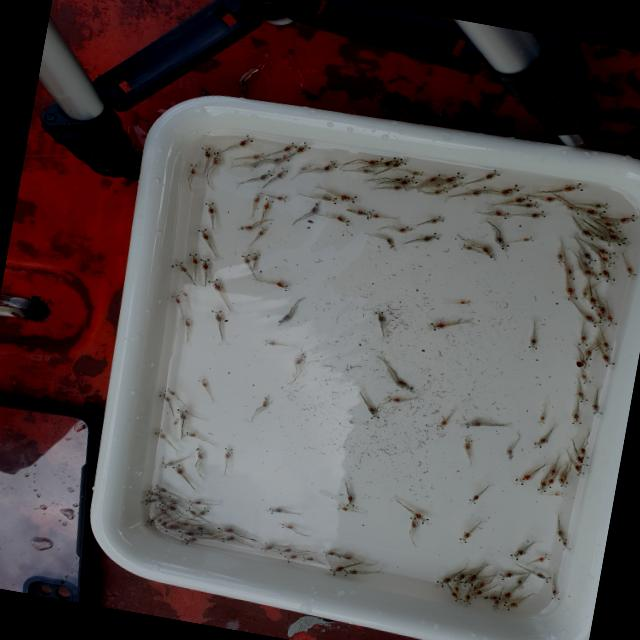babyshrimp: (392, 375, 416, 393), (578, 264, 602, 281), (605, 231, 629, 247), (499, 184, 525, 197), (294, 140, 315, 155), (195, 224, 213, 241), (235, 133, 254, 149), (508, 547, 528, 562), (583, 207, 608, 219), (208, 275, 224, 293), (413, 511, 432, 526), (583, 312, 602, 327), (485, 168, 506, 181), (333, 214, 354, 227), (493, 235, 509, 252), (457, 530, 475, 545), (203, 198, 218, 216), (277, 314, 295, 329), (150, 426, 168, 441), (514, 472, 534, 485), (599, 269, 616, 284), (198, 144, 213, 161), (383, 236, 398, 253), (291, 351, 308, 366), (563, 182, 588, 192), (497, 591, 516, 604), (532, 436, 551, 449), (461, 420, 488, 429), (428, 321, 450, 332), (327, 564, 347, 576), (601, 351, 616, 367), (565, 285, 580, 301), (354, 207, 374, 219), (172, 258, 188, 273), (599, 254, 616, 268), (434, 575, 452, 588), (581, 228, 599, 241), (422, 232, 443, 243), (448, 173, 469, 184), (200, 253, 212, 272), (158, 390, 173, 405), (565, 201, 581, 215), (366, 405, 380, 421), (465, 492, 482, 505), (322, 160, 339, 173), (171, 463, 188, 476), (194, 444, 207, 461), (396, 176, 418, 186), (188, 249, 200, 267), (465, 571, 479, 586), (603, 313, 618, 327), (583, 251, 598, 265), (619, 214, 640, 224), (481, 247, 496, 261), (470, 186, 489, 197), (273, 281, 292, 292), (282, 141, 298, 154), (248, 159, 264, 172), (596, 248, 616, 258), (528, 209, 548, 219), (162, 502, 180, 513), (496, 570, 514, 581), (492, 209, 510, 220), (393, 157, 411, 168), (363, 157, 385, 166), (250, 193, 264, 207), (309, 201, 323, 215), (576, 453, 589, 468), (197, 375, 212, 388), (591, 402, 603, 418), (513, 193, 532, 203), (161, 459, 180, 469), (589, 201, 610, 210), (502, 601, 519, 612), (534, 571, 551, 582), (571, 411, 582, 428), (396, 224, 413, 235), (577, 332, 590, 346), (579, 445, 591, 460), (555, 251, 567, 266), (210, 310, 225, 322), (163, 386, 178, 398), (258, 170, 274, 181), (217, 524, 236, 533), (249, 151, 268, 160), (152, 483, 169, 493), (162, 524, 179, 534), (345, 493, 355, 510), (598, 236, 615, 246), (450, 591, 463, 604), (575, 390, 588, 403), (579, 373, 592, 386), (176, 407, 189, 420), (176, 530, 197, 538), (625, 266, 637, 280), (262, 197, 274, 211), (240, 251, 252, 265), (535, 552, 550, 563), (270, 156, 285, 167), (527, 337, 538, 352), (181, 536, 199, 545), (430, 215, 448, 224), (542, 196, 565, 203), (283, 553, 299, 563), (489, 599, 502, 611), (550, 588, 562, 601), (535, 413, 548, 425), (587, 297, 600, 309), (564, 268, 576, 281), (374, 309, 386, 322), (144, 515, 158, 526), (155, 503, 169, 514), (575, 465, 586, 479), (579, 356, 590, 370), (601, 342, 615, 353), (404, 169, 426, 176), (434, 419, 448, 430), (462, 436, 473, 450), (219, 535, 236, 544), (481, 592, 498, 601), (432, 187, 449, 196), (211, 150, 220, 167), (537, 478, 547, 493), (450, 585, 462, 597), (556, 530, 568, 542), (393, 183, 411, 191), (170, 292, 182, 304), (276, 167, 289, 178), (256, 225, 269, 236), (266, 506, 283, 514), (369, 212, 386, 220), (181, 430, 198, 438), (470, 583, 485, 592), (236, 224, 255, 231), (251, 250, 262, 262), (182, 316, 193, 328), (515, 578, 525, 591), (276, 546, 292, 554), (322, 549, 338, 557), (343, 569, 359, 577), (459, 243, 475, 251), (338, 552, 352, 561), (462, 593, 471, 607), (452, 574, 466, 583), (188, 163, 197, 177), (384, 397, 405, 403), (544, 477, 555, 488), (185, 506, 197, 516), (408, 517, 418, 529), (584, 349, 594, 361), (260, 395, 270, 407), (224, 446, 234, 458), (145, 489, 162, 496), (187, 499, 204, 506), (175, 521, 192, 528), (523, 201, 540, 208), (198, 506, 211, 515), (471, 590, 484, 599), (560, 474, 569, 487), (142, 498, 158, 505), (451, 181, 465, 189), (358, 168, 374, 175), (558, 476, 567, 488), (581, 264, 593, 273), (155, 521, 168, 529), (506, 448, 514, 461), (300, 163, 310, 173), (581, 288, 590, 299), (150, 518, 164, 525), (521, 235, 535, 242), (264, 339, 278, 346), (279, 523, 295, 529), (262, 542, 275, 549), (457, 299, 470, 306), (179, 288, 189, 297), (260, 546, 274, 552), (301, 555, 315, 561), (337, 504, 349, 510), (170, 499, 181, 505), (562, 545, 571, 552), (554, 491, 564, 497), (172, 419, 178, 427)
